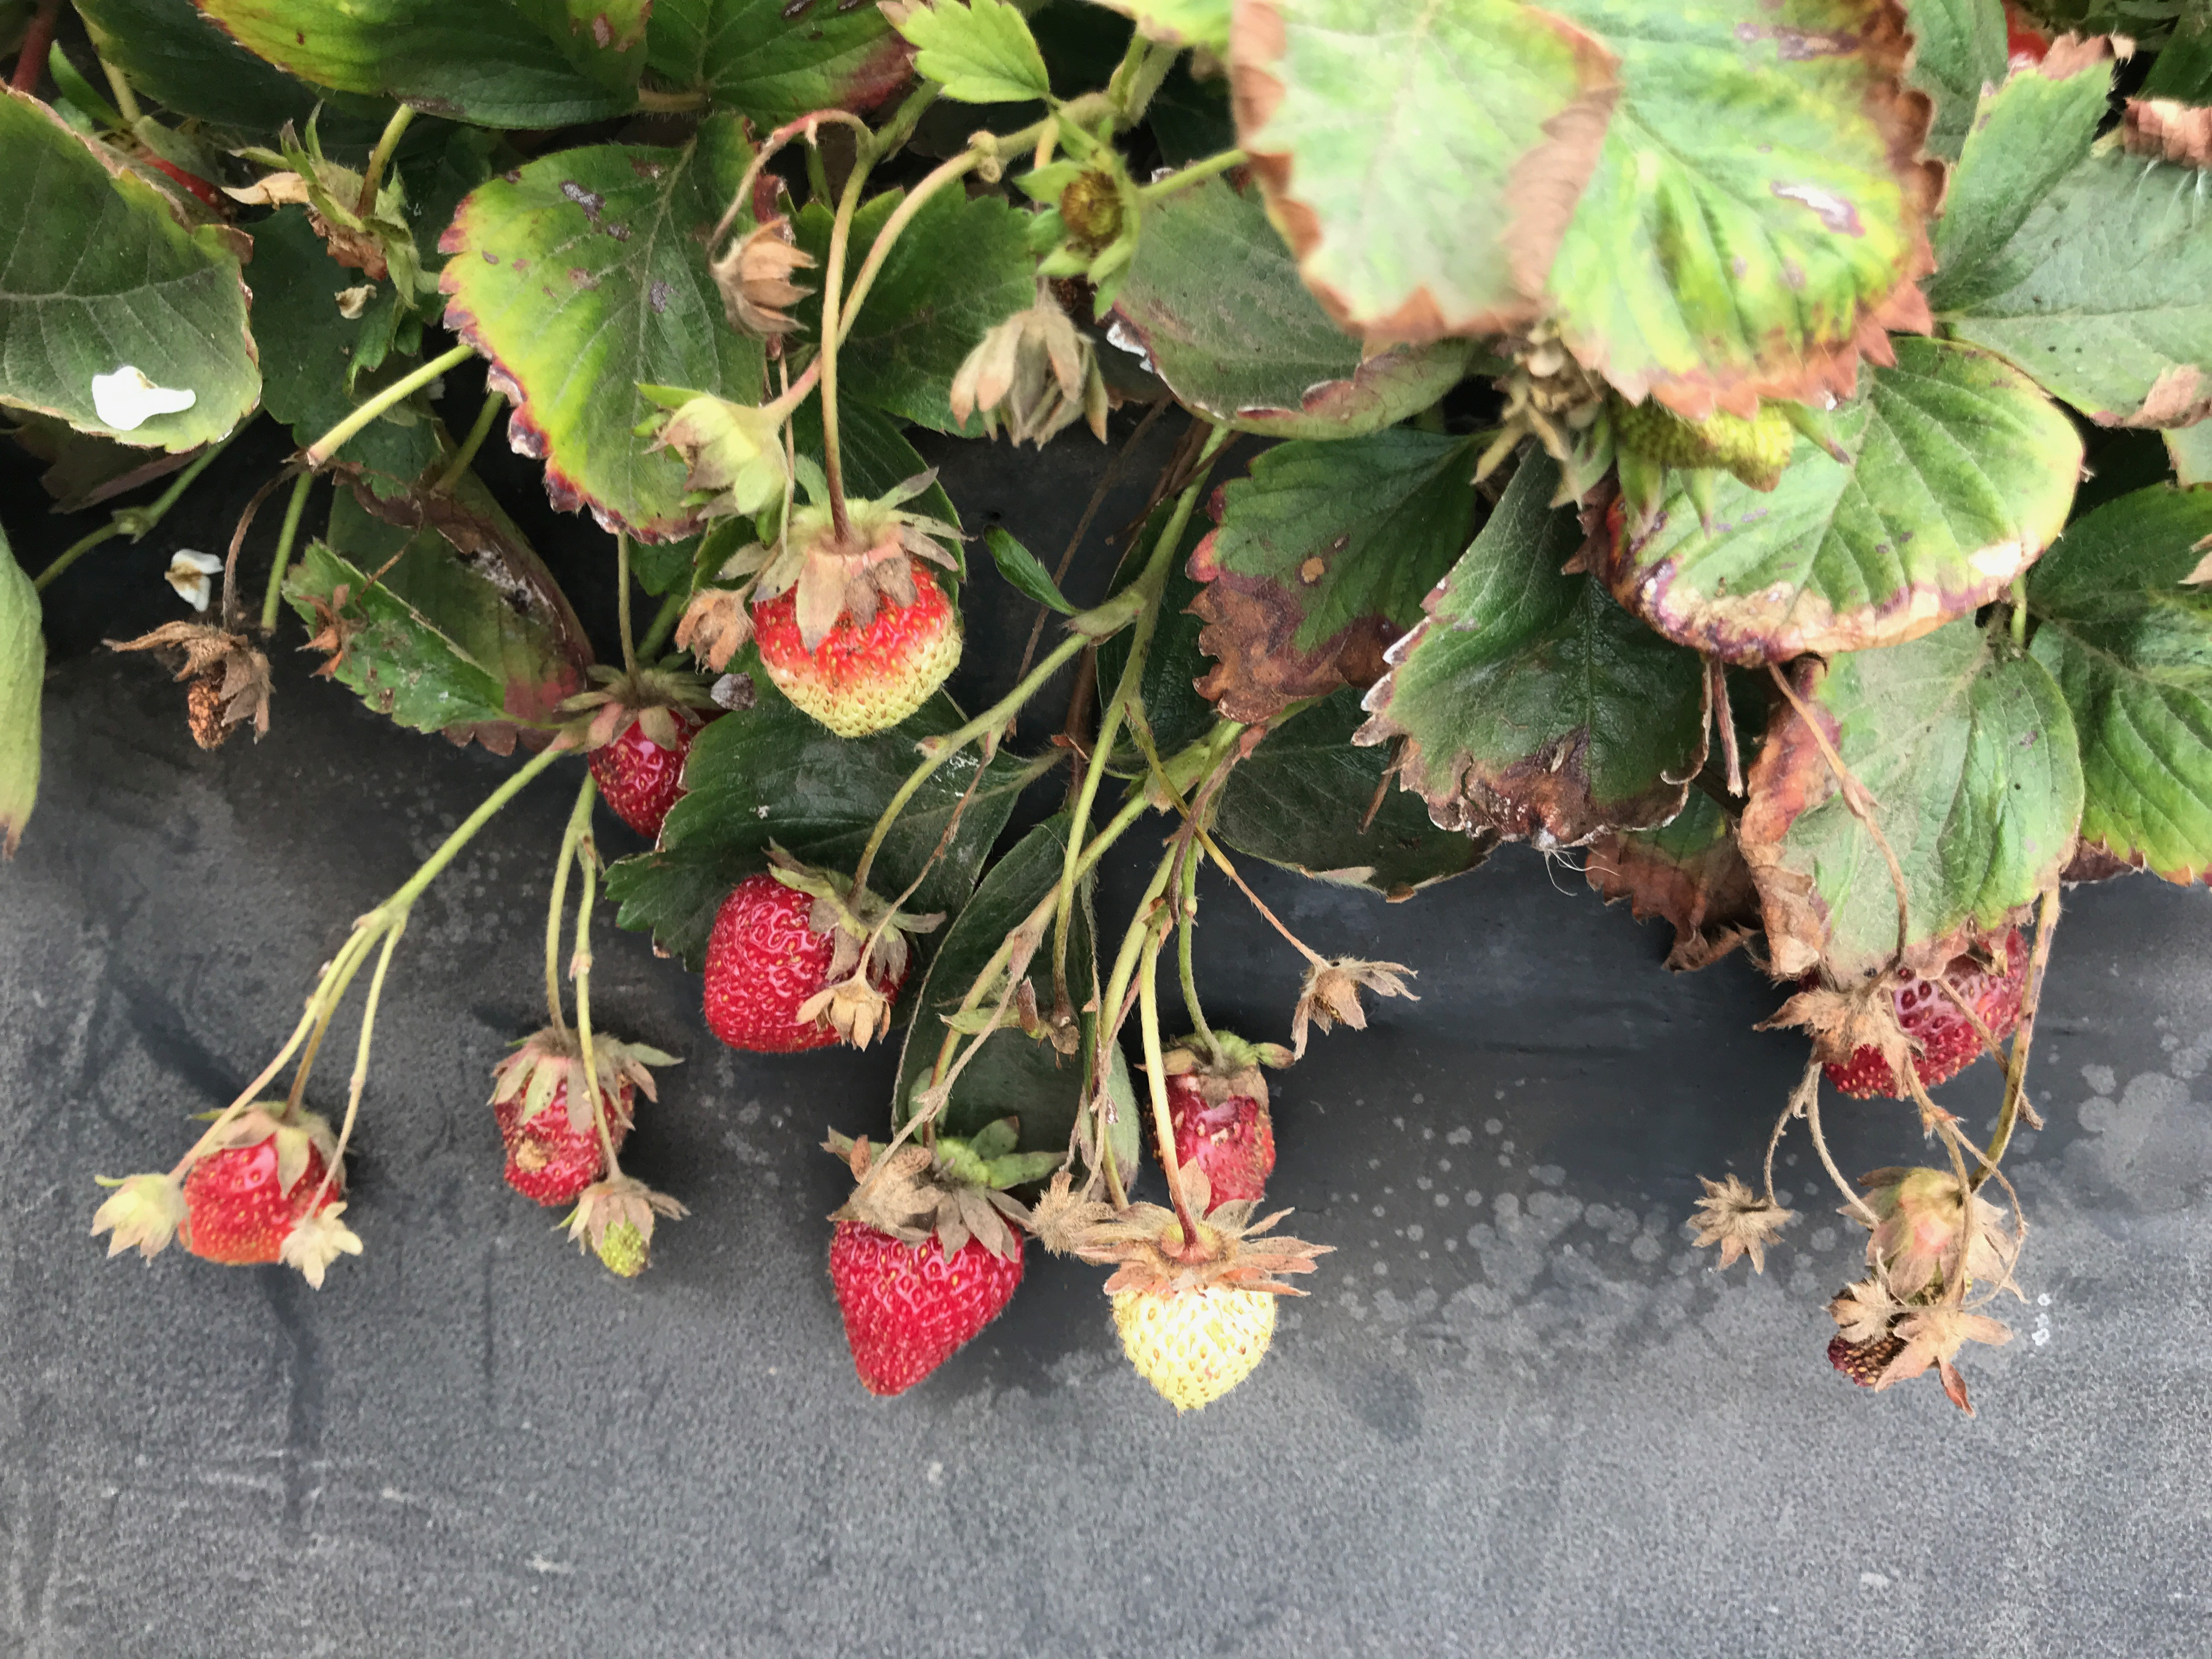ripe_strawberry: (822, 1166, 1031, 1403), (1811, 918, 2038, 1108), (702, 863, 911, 1056), (165, 1101, 350, 1270), (484, 1025, 644, 1208), (1151, 1028, 1282, 1223), (587, 680, 732, 843)
unripe_strawberry: (745, 502, 975, 748), (1099, 1223, 1280, 1419)
